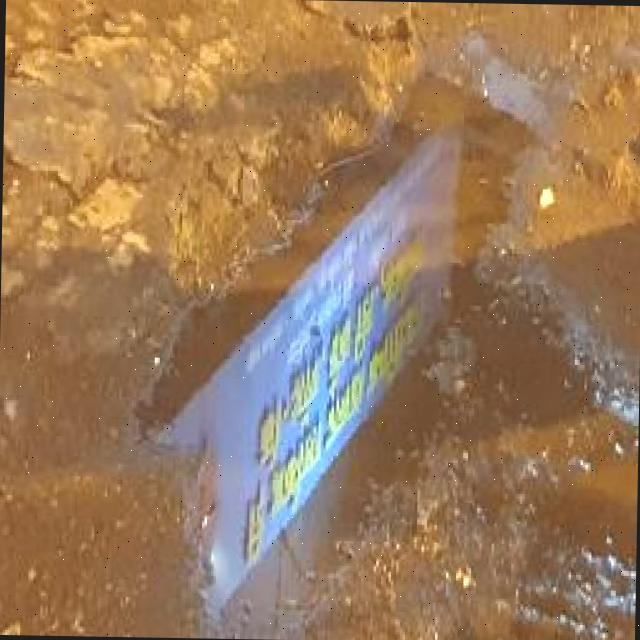waterlogging: (134, 55, 640, 614)
